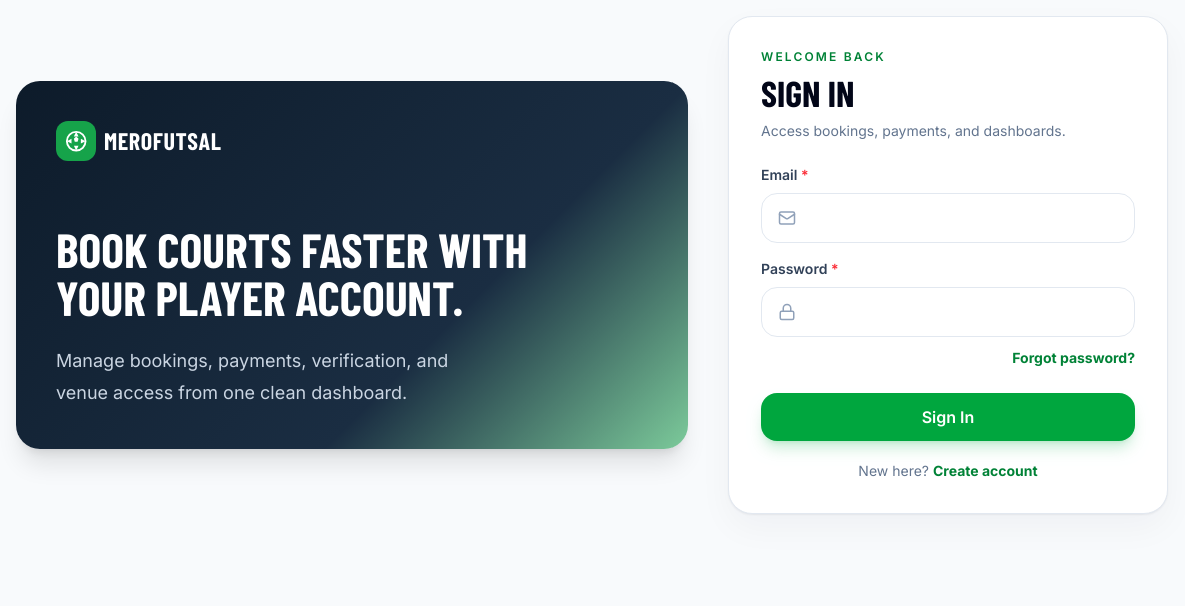
Test: Login › reports a failed sign-in without redirecting
Type "player@example.com" into the field labelled "Email *" at (948,218), box [761,193,1135,243]
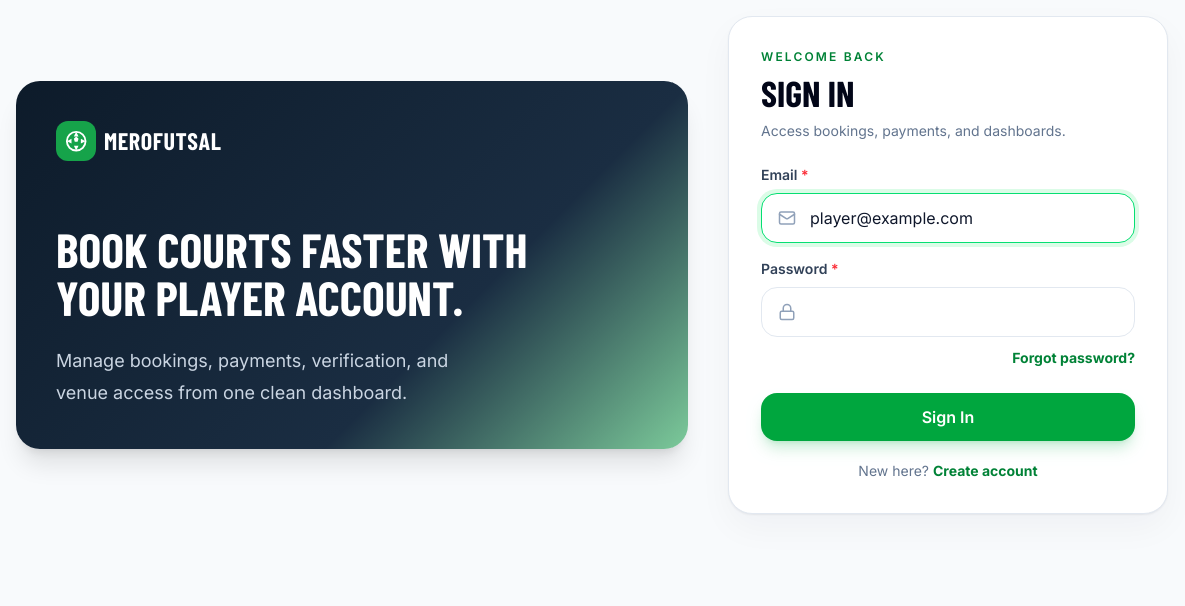
Type "wrong-password" into the password field labelled "Password *" at (948,312), box [761,287,1135,337]
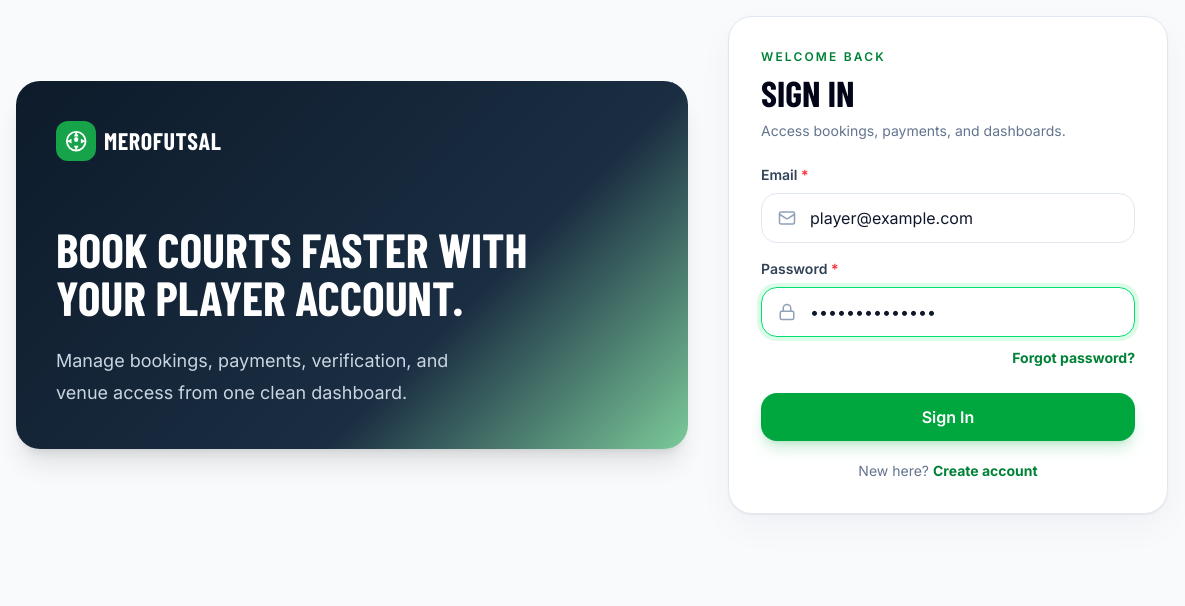
Click the button "Sign In" at (948,417), box [761,393,1135,441]
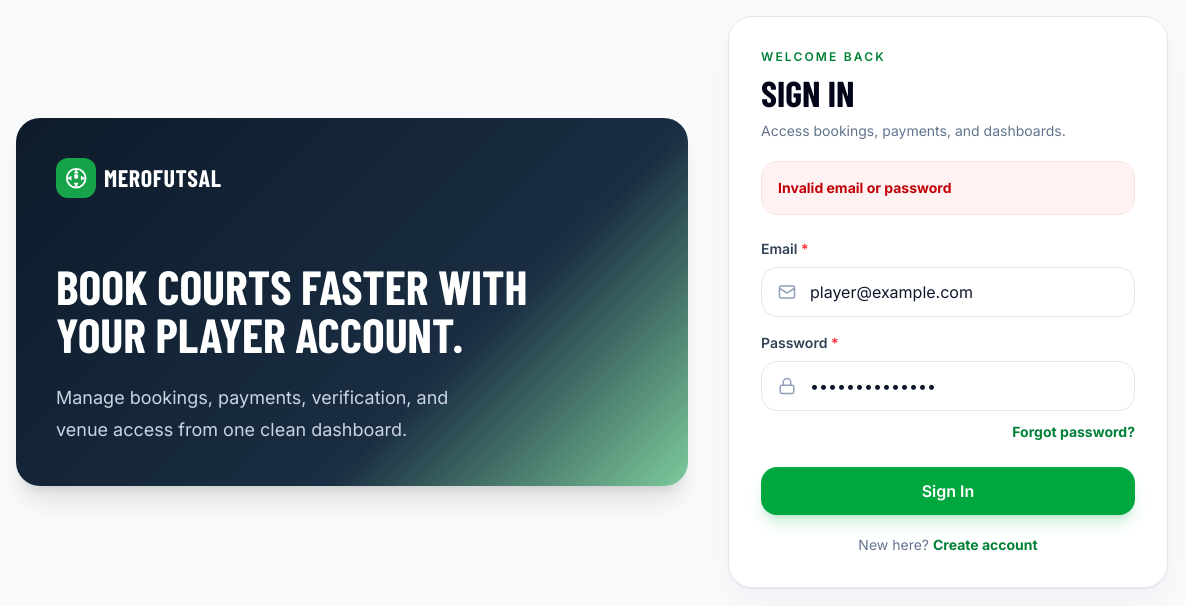
Expected: the message reads "Invalid email or password", [778,179,952,196]
